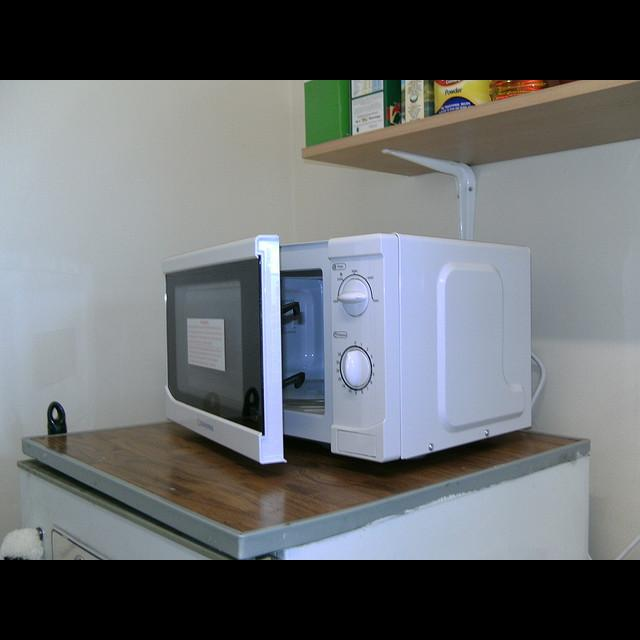Microwave: (160, 236, 535, 467)
